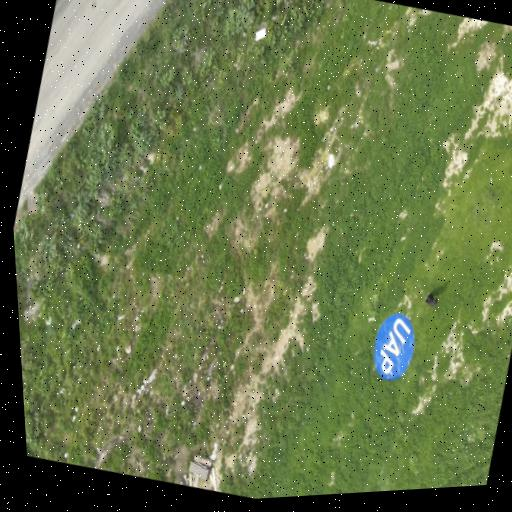person: (426, 294, 437, 306)
uap: (373, 312, 413, 379)
